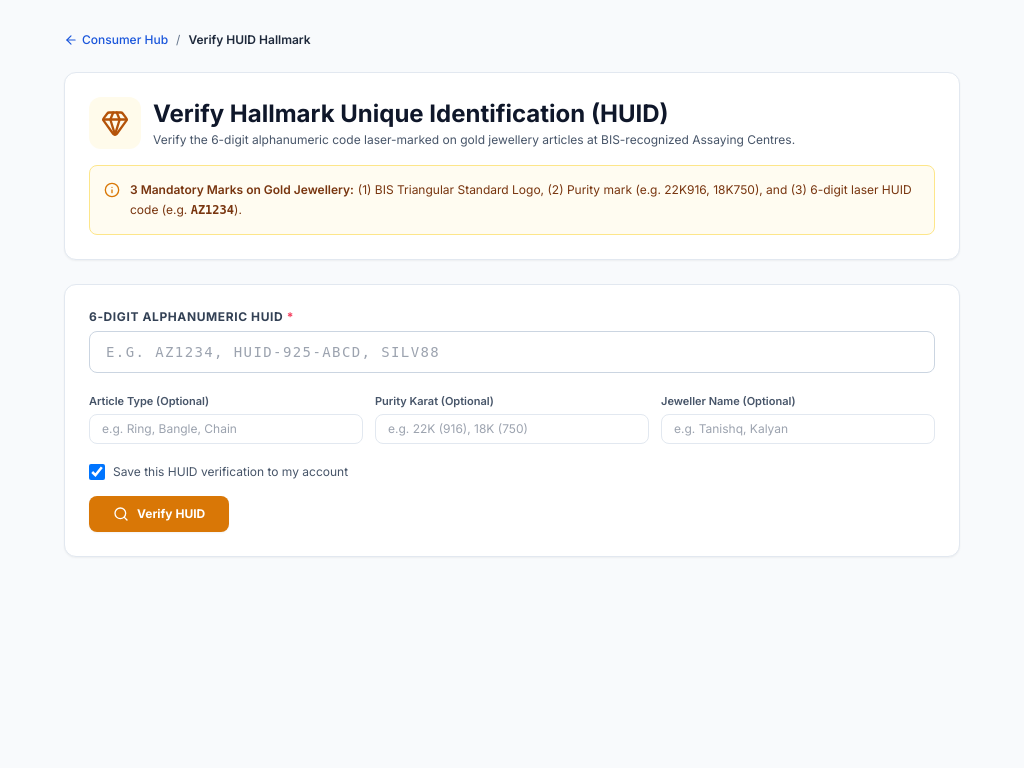
Test: Phase 11 — Frontend Consumer Services & Hallmarking Intelligence Tests › 4. HuidVerificationPage submits HUID code and renders purity karat and jeweller info
This screenshot has width=1024, height=768.
Expected: the heading "Verify Hallmark Unique Identification (HUID)" is shown, [153,99,669,128]
Type "AZ1234" into the field labelled "6-Digit Alphanumeric HUID *" at (512, 352), box [89,331,935,373]
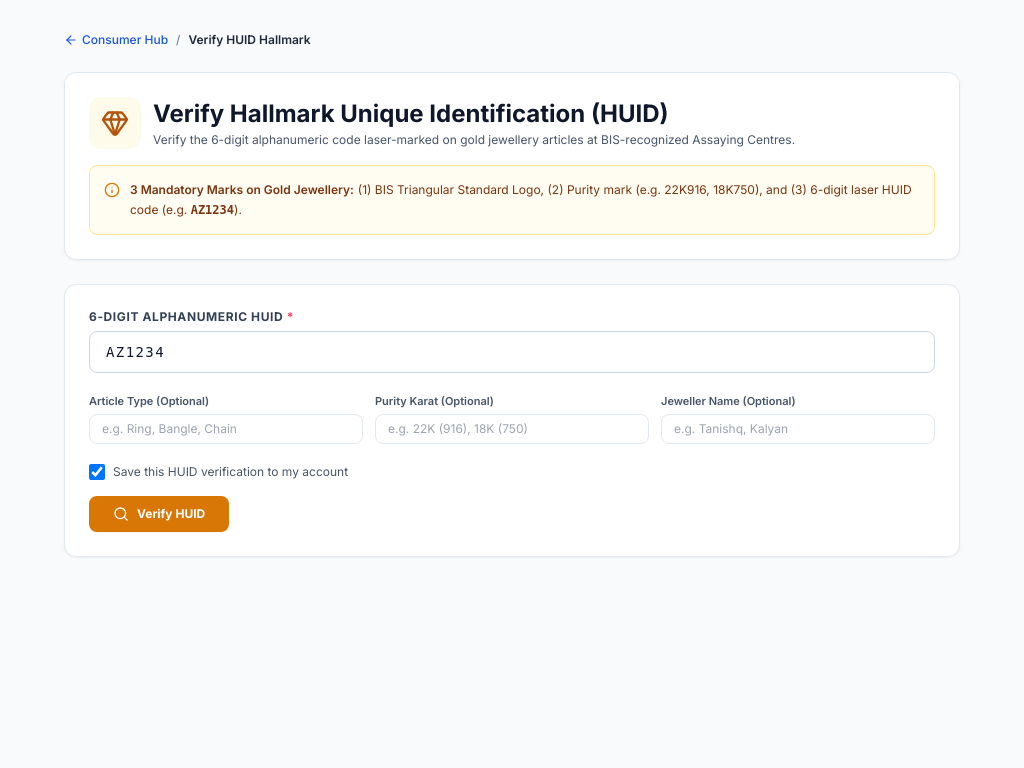
Click the button "Verify HUID" at (159, 514), box [89,496,229,532]
(page scrolled)
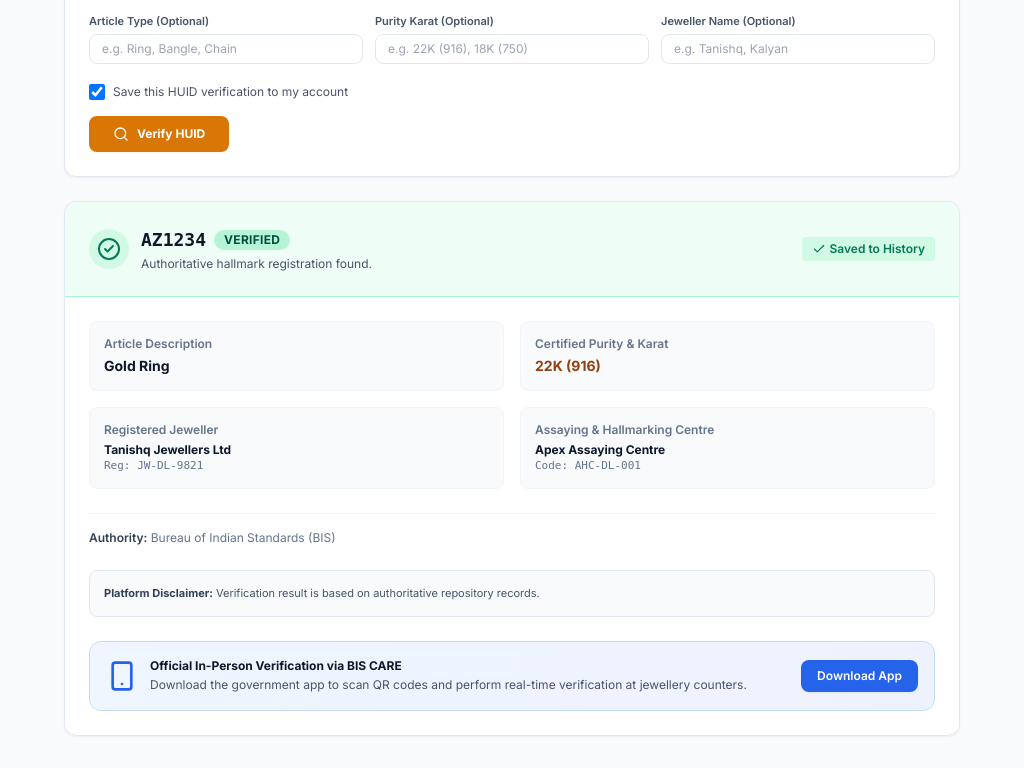
Expected: the text "22K (916)" is shown, [535,356,601,374]
Expected: the text "Tanishq Jewellers Ltd" is shown, [104,442,231,456]
Expected: the text "Apex Assaying Centre" is shown, [535,442,665,456]
